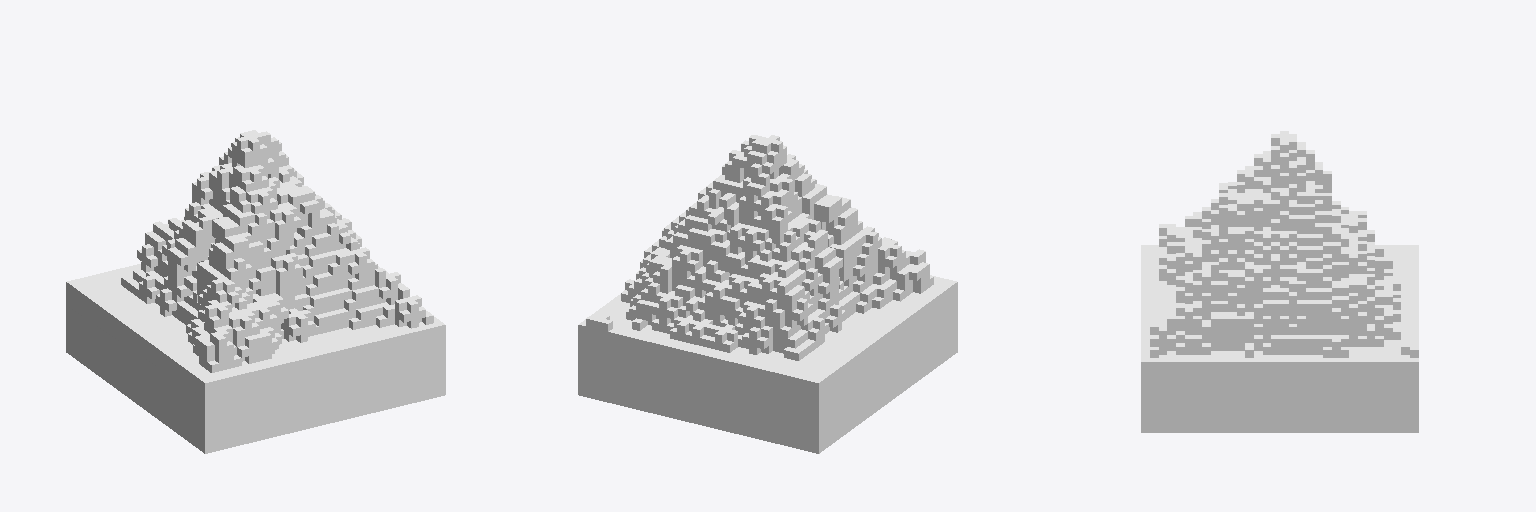
The model's file is Mountain.obj.
3 renders of one model, left to right at view 1: azimuth 30°, elevation 25°; view 2: azimuth 150°, elevation 25°; view 3: azimuth 270°, elevation 25°, orthographic.
Parts seen in each view (by area): view 1: object 1; view 2: object 1; view 3: object 1.
Part boxes in pixels (x1,y1,x2,y2): object 1: (66,130,445,453); object 1: (578,135,957,453); object 1: (1141,131,1418,432).
Bounding box in the file's own units: 3.2 × 3 × 3.2.